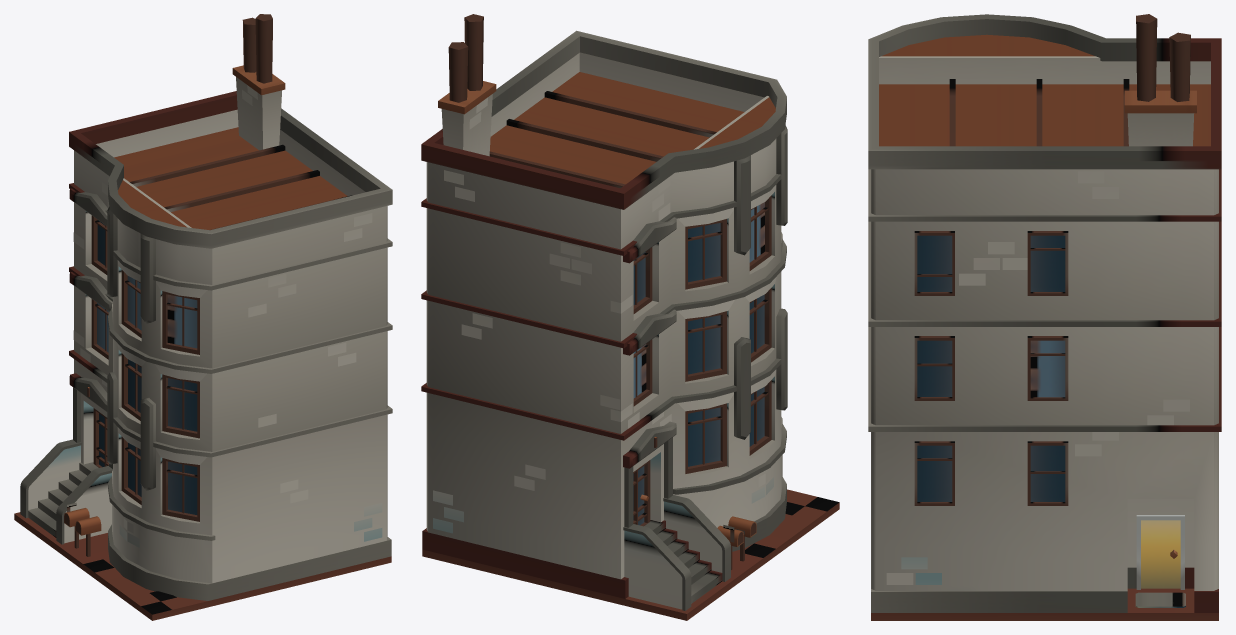
Rendered from Building_4A.fbx.
3 views of the same model, side by side, from view 1: azimuth 30°, elevation 25°; view 2: azimuth 150°, elevation 25°; view 3: azimuth 270°, elevation 25° (orthographic). The views are drawn at different scales.
Parts seen in each view (by area): view 1: Building_4A, Window_Lights_4A; view 2: Building_4A, Window_Lights_4A; view 3: Building_4A, Window_Lights_4A.
Boxes of the visible parts, left/top/right/bottom form: Building_4A: left=14, top=14, right=392, bottom=620; Window_Lights_4A: left=97, top=276, right=197, bottom=352; Building_4A: left=421, top=14, right=839, bottom=620; Window_Lights_4A: left=633, top=202, right=764, bottom=398; Building_4A: left=868, top=14, right=1221, bottom=620; Window_Lights_4A: left=1030, top=340, right=1065, bottom=397.
Size of the model in its own units: 12.05 by 22.51 by 12.2.
